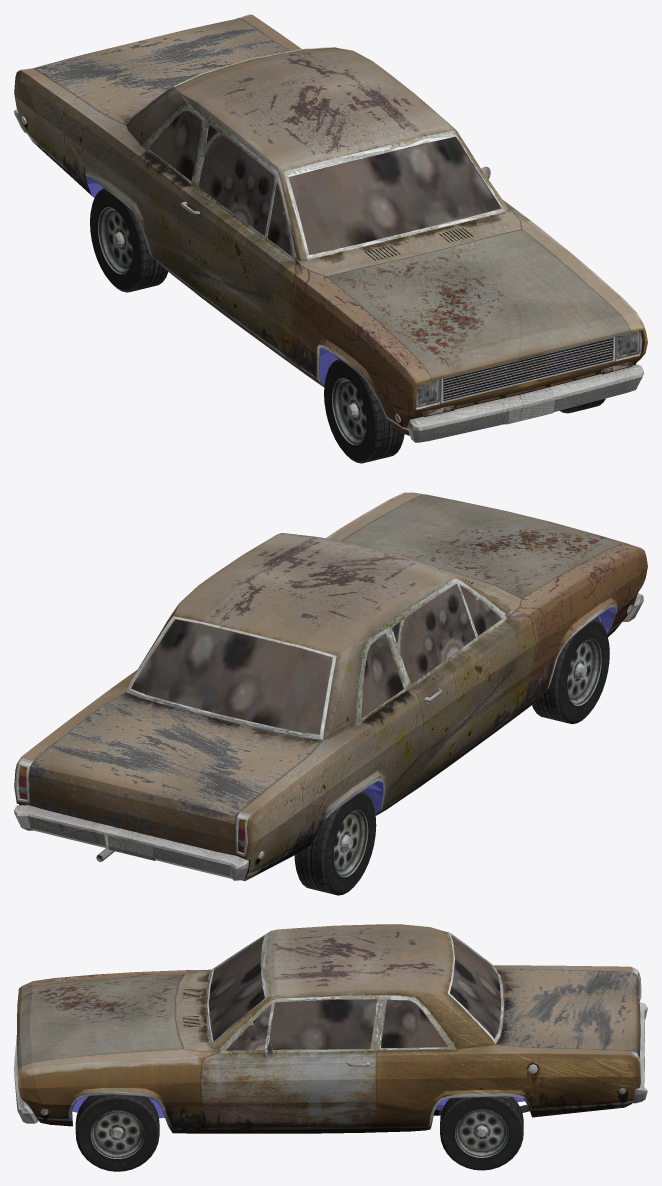
File: 1972 Plymouth Valiant 'Valorous'.obj
3 renders of one model, top to bottom at view 1: azimuth 30°, elevation 25°; view 2: azimuth 150°, elevation 25°; view 3: azimuth 270°, elevation 25°, orthographic. The views are drawn at different scales.
Visible parts, largest first — view 1: DrawCall_1490, DrawCall_1491, DrawCall_1976, DrawCall_1501, DrawCall_1493, DrawCall_1492, DrawCall_1499, DrawCall_1497, DrawCall_1496, DrawCall_1977, DrawCall_1517, DrawCall_1519 (+4 smaller); view 2: DrawCall_1490, DrawCall_1492, DrawCall_1976, DrawCall_1501, DrawCall_1491, DrawCall_1493, DrawCall_1499, DrawCall_1495, DrawCall_1519, DrawCall_1977, DrawCall_1517, DrawCall_1500 (+1 smaller); view 3: DrawCall_1490, DrawCall_1500, DrawCall_1494, DrawCall_1491, DrawCall_1492, DrawCall_1498, DrawCall_1976, DrawCall_1978, DrawCall_1516, DrawCall_1518, DrawCall_1499, DrawCall_1501 (+3 smaller).
Boxes of the visible parts, <box> form: DrawCall_1490: <box>126,47,521,370</box>; DrawCall_1491: <box>326,229,630,380</box>; DrawCall_1976: <box>148,110,500,254</box>; DrawCall_1501: <box>14,68,195,292</box>; DrawCall_1493: <box>178,120,295,360</box>; DrawCall_1492: <box>33,18,288,125</box>; DrawCall_1499: <box>291,263,430,435</box>; DrawCall_1497: <box>416,330,642,417</box>; DrawCall_1496: <box>407,364,643,442</box>; DrawCall_1977: <box>198,125,292,256</box>; DrawCall_1517: <box>324,359,404,463</box>; DrawCall_1519: <box>90,188,168,292</box>; DrawCall_1490: <box>125,533,522,791</box>; DrawCall_1492: <box>29,692,322,855</box>; DrawCall_1976: <box>131,619,403,734</box>; DrawCall_1501: <box>235,690,423,880</box>; DrawCall_1491: <box>341,494,626,598</box>; DrawCall_1493: <box>389,580,536,782</box>; DrawCall_1499: <box>508,543,647,716</box>; DrawCall_1495: <box>14,805,248,880</box>; DrawCall_1519: <box>294,791,376,895</box>; DrawCall_1977: <box>392,584,501,684</box>; DrawCall_1517: <box>532,619,609,724</box>; DrawCall_1500: <box>14,670,136,805</box>; DrawCall_1490: <box>175,924,628,1133</box>; DrawCall_1500: <box>370,1044,640,1132</box>; DrawCall_1494: <box>200,997,379,1127</box>; DrawCall_1491: <box>17,974,183,1069</box>; DrawCall_1492: <box>495,969,640,1058</box>; DrawCall_1498: <box>18,1049,219,1133</box>; DrawCall_1976: <box>208,935,500,1048</box>; DrawCall_1978: <box>226,999,376,1050</box>; DrawCall_1516: <box>75,1095,159,1171</box>; DrawCall_1518: <box>440,1097,523,1170</box>; DrawCall_1499: <box>18,970,205,991</box>; DrawCall_1501: <box>493,965,641,1000</box>.
Bounding box in the file's own units: 1.95 × 1.65 × 5.42.
